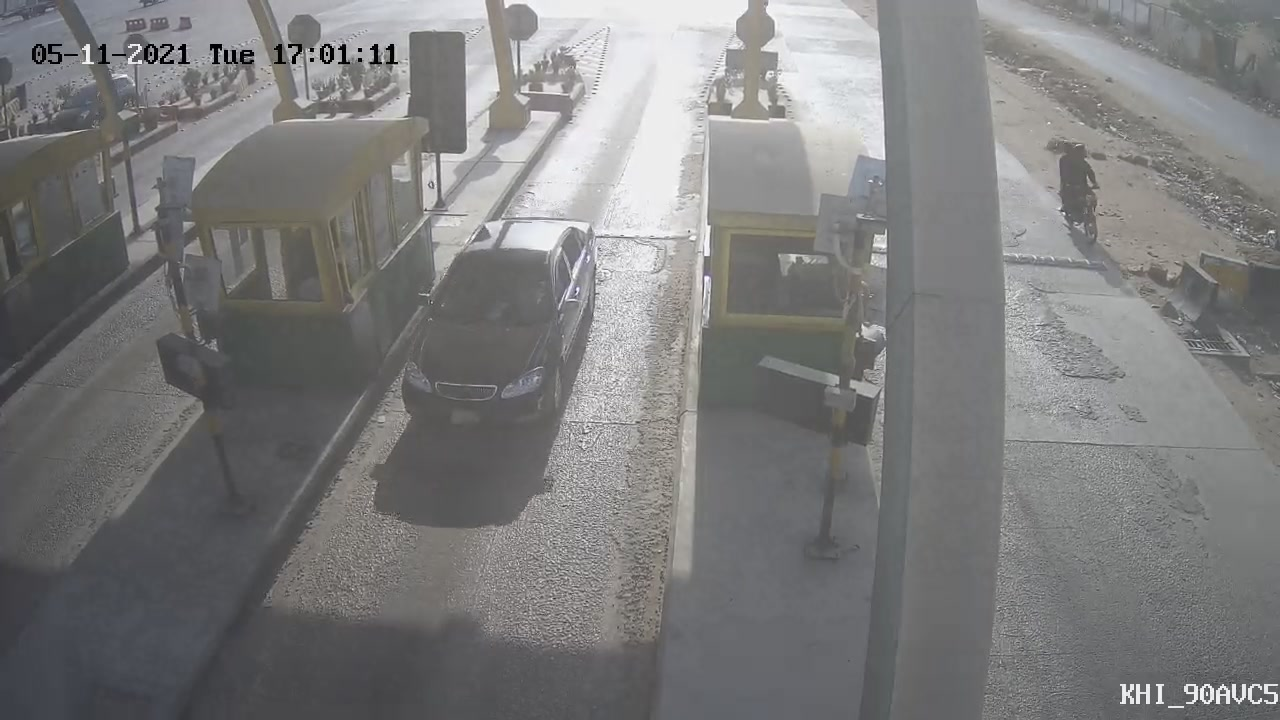F1: (370, 198, 617, 456)
